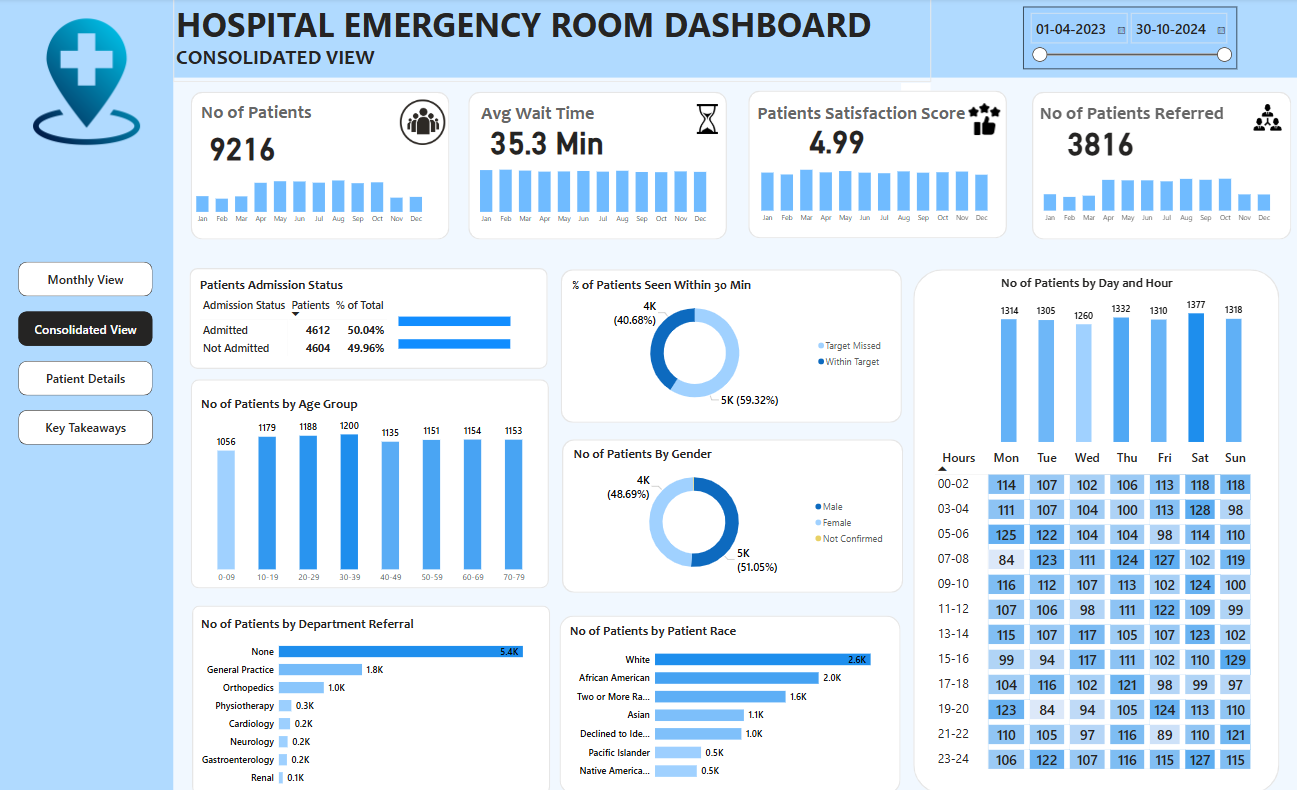

The dashboard page shown, as its layout file describes it:
{"tool":"powerbi","page":{"name":"Consolidated View","canvas":[2300,1400],"ordinal":1},"visuals":[{"type":"shape","box":[340,164,455,260],"z":0},{"type":"card","fields":{"Values":["Hospital ER_Data.No Of Patients"]},"box":[353.3,206.7,155,105],"z":1000},{"type":"shape","box":[0,0,310,1400],"z":2000},{"type":"shape","box":[310,0,1990,140],"z":3000},{"type":"textbox","box":[310,0,1334.5,147.3],"z":4000},{"type":"textbox","box":[310,77.3,494,70.7],"z":5000},{"type":"slicer","fields":{"Values":["Date Table.Date"]},"box":[1805,15.4,375.9,109.9],"z":6000},{"type":"columnChart","fields":{"Category":["Date Table.Month Name"],"Y":["Hospital ER_Data.No of Patients"]},"box":[333,280.5,435,125],"z":7000},{"type":"shape","box":[829.2,164.2,455,260],"z":8000},{"type":"shape","box":[1321.7,163.3,455,260],"z":9000},{"type":"shape","box":[1820,164,456,260],"z":10000},{"type":"textbox","box":[846.8,178.8,261.1,68.2],"z":11000},{"type":"card","fields":{"Values":["Hospital ER_Data.Avg Wait Time"]},"box":[855.2,213.3,224.2,70.4],"z":12000},{"type":"columnChart","fields":{"Y":["Avg(Hospital ER_Data.Patient Waittime)"],"Category":["Date Table.Month Name"]},"box":[831.3,281.8,435.8,125],"z":13000},{"type":"textbox","box":[1332.3,178.1,384.7,79.1],"z":14000},{"type":"card","fields":{"Values":["Hospital ER_Data.Satisfaction Score"]},"box":[1365.3,213.3,224.2,66],"z":15000},{"type":"columnChart","fields":{"Y":["Hospital ER_Data.Satisfaction Score"],"Category":["Date Table.Month Name"]},"box":[1325,279.8,436,125],"z":16000},{"type":"textbox","box":[1830,178,426,68],"z":17000},{"type":"card","fields":{"Values":["Hospital ER_Data.No Of Patients Referred"]},"box":[1829.2,208.9,224.2,83.5],"z":18000},{"type":"columnChart","fields":{"Y":["Hospital ER_Data.No of Patients Referred"],"Category":["Date Table.Month Name"]},"box":[1823,279.8,436,125],"z":19000},{"type":"shape","box":[337.5,475,630,177.5],"z":20000},{"type":"pivotTable","title":"Patients Admission Status","fields":{"Rows":["Hospital ER_Data.Admission Status"],"Values":["Hospital ER_Data.No of Patients1","Hospital ER_Data.No of Patients"]},"box":[352.5,490,606.2,162.5],"z":21000},{"type":"barChart","fields":{"Category":["Hospital ER_Data.Admission Status"],"Y":["Hospital ER_Data.No of Patients"]},"box":[701.2,527.5,266.2,117.5],"z":22000},{"type":"shape","box":[341.2,671.2,630,368],"z":23000},{"type":"clusteredColumnChart","fields":{"Category":["Hospital ER_Data.Age Group"],"Y":["Hospital ER_Data.No of Patients"]},"box":[354,700,606,340],"z":24000},{"type":"shape","box":[342,1068,630,332],"z":25000},{"type":"clusteredBarChart","fields":{"Category":["Hospital ER_Data.Department Referral"],"Y":["Hospital ER_Data.No of Patients"]},"box":[354,1086,604,314],"z":26000},{"type":"shape","box":[992,478,600,270],"z":27000},{"type":"donutChart","title":"% of Patients Seen Within 30 Min","fields":{"Category":["Hospital ER_Data.WaitTime Status"],"Y":["Hospital ER_Data.No of Patients"]},"box":[1008,490,562,240],"z":28000},{"type":"shape","box":[993.2,776.4,600,270],"z":29000},{"type":"donutChart","title":"No of Patients By Gender","fields":{"Y":["Hospital ER_Data.No of Patients"],"Category":["Hospital ER_Data.Patient Gender"]},"box":[1009.1,787.5,562.8,241.8],"z":30000},{"type":"shape","box":[988.4,1085.5,600,314.5],"z":31000},{"type":"clusteredBarChart","fields":{"Y":["Hospital ER_Data.No of Patients"],"Category":["Hospital ER_Data.Patient Race"]},"box":[1001.4,1098.6,568.1,289.9],"z":32000},{"type":"shape","box":[1611.5,477.1,644.2,923.4],"z":33000},{"type":"pivotTable","fields":{"Rows":["Hospital ER_Data.Waittime Interval"],"Columns":["Date Table.Day Name"],"Values":["Hospital ER_Data.No of Patients"]},"box":[1644.5,787.1,600.2,584.8],"z":34000},{"type":"columnChart","title":"No of Patients by Day and Hour","fields":{"Category":["Date Table.Day Name"],"Y":["Hospital ER_Data.No of Patients"]},"box":[1761,485.9,435.3,301.2],"z":35000},{"type":"image","box":[39.6,30.8,235.2,233],"z":36000},{"type":"image","box":[1703.8,180.3,66,66],"z":37000},{"type":"image","box":[701.3,173.7,94.5,90.1],"z":38000},{"type":"image","box":[1207,175.9,85.7,72.6],"z":39000},{"type":"image","box":[2196.3,180.3,76.9,59.4],"z":40000},{"type":"textbox","box":[354,175.9,382.5,81.3],"z":41000},{"type":"pageNavigator","box":[37.4,463.9,237.4,323.2],"z":42000}]}

Visuals, with their boxes in screenshot pixels (x1, y1, x2, y2), scaled from the page's 2300x1400 canvas onto the 1297x790 screenshot:
shape: [left=192, top=93, right=448, bottom=239]
card - Hospital ER_Data.No Of Patients: [left=199, top=117, right=287, bottom=176]
shape: [left=0, top=0, right=175, bottom=789]
shape: [left=175, top=0, right=1296, bottom=79]
textbox: [left=175, top=0, right=927, bottom=83]
textbox: [left=175, top=44, right=453, bottom=84]
slicer - Date Table.Date: [left=1018, top=9, right=1230, bottom=71]
columnChart - Date Table.Month Name x Hospital ER_Data.No of Patients: [left=188, top=158, right=433, bottom=229]
shape: [left=468, top=93, right=724, bottom=239]
shape: [left=745, top=92, right=1002, bottom=239]
shape: [left=1026, top=93, right=1283, bottom=239]
textbox: [left=478, top=101, right=625, bottom=139]
card - Hospital ER_Data.Avg Wait Time: [left=482, top=120, right=609, bottom=160]
columnChart - Avg(Hospital ER_Data.Patient Waittime) x Date Table.Month Name: [left=469, top=159, right=715, bottom=230]
textbox: [left=751, top=100, right=968, bottom=145]
card - Hospital ER_Data.Satisfaction Score: [left=770, top=120, right=896, bottom=158]
columnChart - Hospital ER_Data.Satisfaction Score x Date Table.Month Name: [left=747, top=158, right=993, bottom=228]
textbox: [left=1032, top=100, right=1272, bottom=139]
card - Hospital ER_Data.No Of Patients Referred: [left=1032, top=118, right=1158, bottom=165]
columnChart - Hospital ER_Data.No of Patients Referred x Date Table.Month Name: [left=1028, top=158, right=1274, bottom=228]
shape: [left=190, top=268, right=546, bottom=368]
"Patients Admission Status" pivotTable: [left=199, top=276, right=541, bottom=368]
barChart - Hospital ER_Data.Admission Status x Hospital ER_Data.No of Patients: [left=395, top=298, right=546, bottom=364]
shape: [left=192, top=379, right=548, bottom=586]
clusteredColumnChart - Hospital ER_Data.Age Group x Hospital ER_Data.No of Patients: [left=200, top=395, right=541, bottom=587]
shape: [left=193, top=603, right=548, bottom=789]
clusteredBarChart - Hospital ER_Data.Department Referral x Hospital ER_Data.No of Patients: [left=200, top=613, right=540, bottom=789]
shape: [left=559, top=270, right=898, bottom=422]
"% of Patients Seen Within 30 Min" donutChart: [left=568, top=276, right=885, bottom=412]
shape: [left=560, top=438, right=898, bottom=590]
"No of Patients By Gender" donutChart: [left=569, top=444, right=886, bottom=581]
shape: [left=557, top=613, right=896, bottom=789]
clusteredBarChart - Hospital ER_Data.No of Patients x Hospital ER_Data.Patient Race: [left=565, top=620, right=885, bottom=784]
shape: [left=909, top=269, right=1272, bottom=789]
pivotTable - Hospital ER_Data.Waittime Interval x Date Table.Day Name: [left=927, top=444, right=1266, bottom=774]
"No of Patients by Day and Hour" columnChart: [left=993, top=274, right=1239, bottom=444]
image: [left=22, top=17, right=155, bottom=149]
image: [left=961, top=102, right=998, bottom=139]
image: [left=395, top=98, right=449, bottom=149]
image: [left=681, top=99, right=729, bottom=140]
image: [left=1239, top=102, right=1282, bottom=135]
textbox: [left=200, top=99, right=415, bottom=145]
pageNavigator: [left=21, top=262, right=155, bottom=444]
